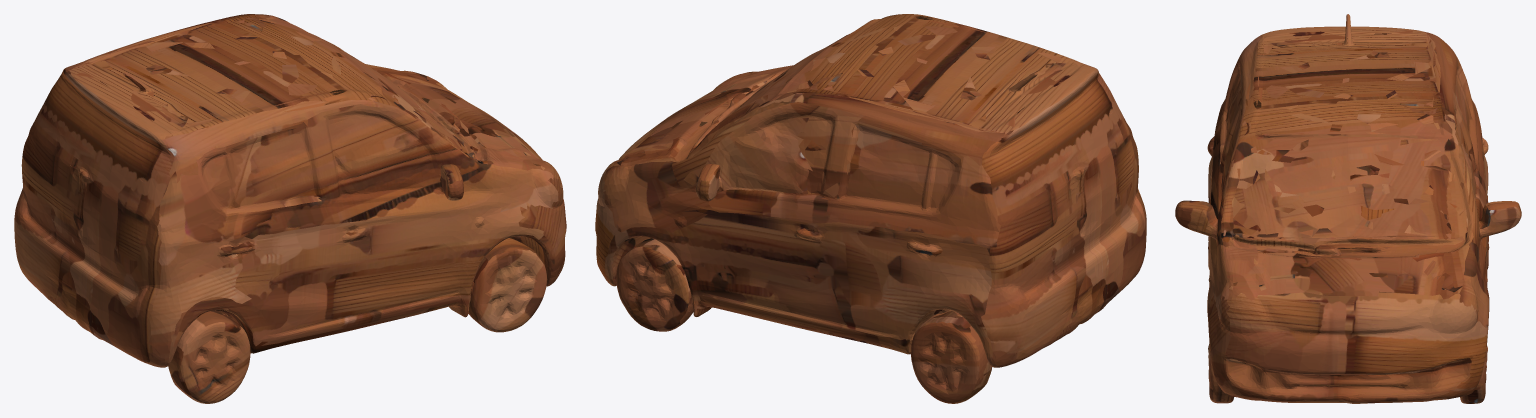
3 views of the same model, side by side, from view 1: azimuth 30°, elevation 25°; view 2: azimuth 150°, elevation 25°; view 3: azimuth 270°, elevation 25° (orthographic). The views are drawn at different scales.
Visible parts, largest first — view 1: textured_mesh; view 2: textured_mesh; view 3: textured_mesh.
Boxes of the visible parts, bbox=[...] form: textured_mesh: bbox=[14, 14, 566, 403]; textured_mesh: bbox=[595, 14, 1146, 403]; textured_mesh: bbox=[1175, 14, 1521, 403].
Bounding box in the file's own units: 1.99 × 1.19 × 1.49.
Materials: 1 (1 with a texture image).
